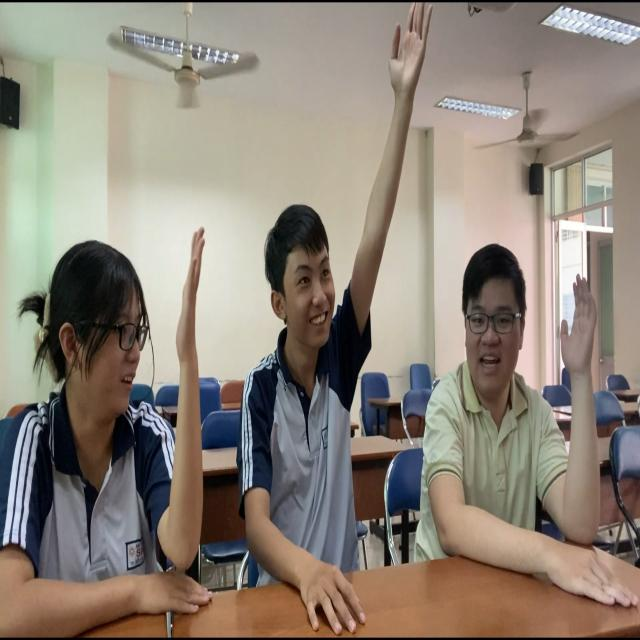raise_hand: (235, 1, 434, 640), (1, 220, 218, 640), (423, 246, 629, 588)
